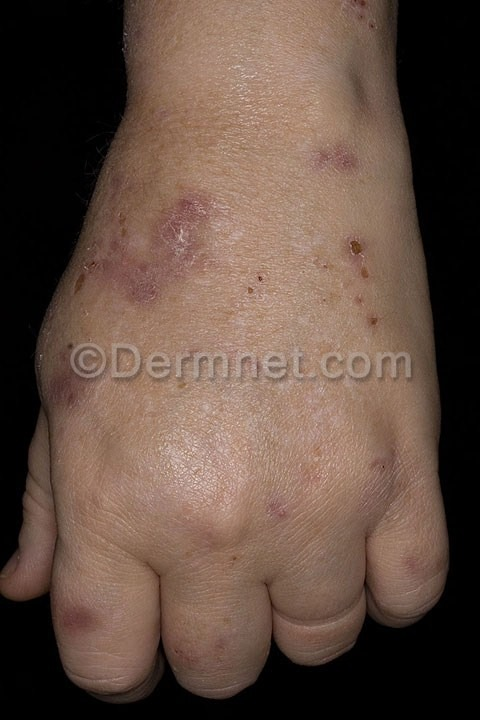Melasma: (318, 1, 415, 324), (143, 0, 195, 270)
